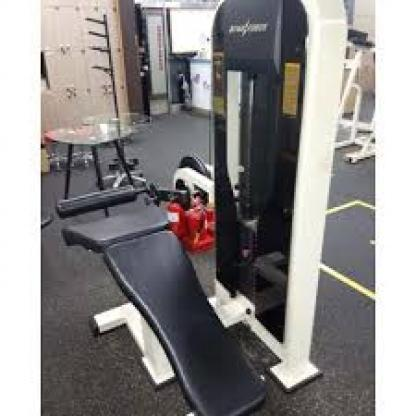reg curl machine: (59, 0, 348, 416)
